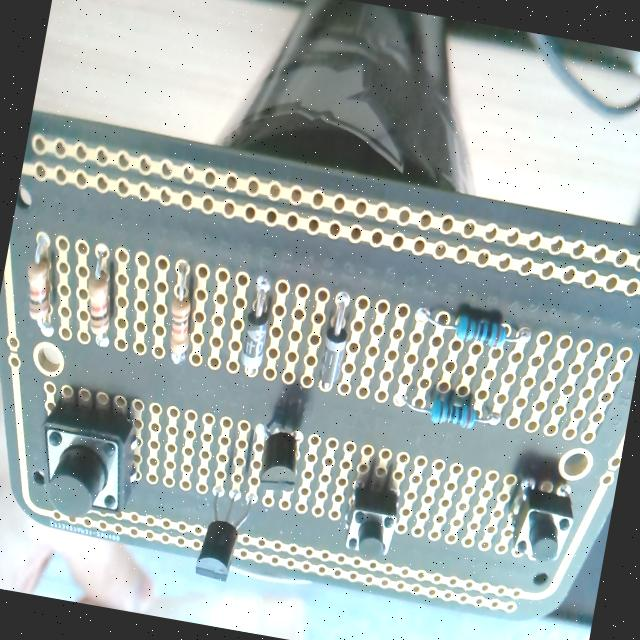diode: (236, 271, 278, 379), (314, 286, 356, 392)
resistor: (15, 231, 70, 341), (416, 304, 532, 355), (398, 379, 502, 434), (77, 245, 124, 350), (160, 258, 204, 366)
switch: (28, 386, 148, 526), (506, 478, 578, 568), (340, 465, 404, 561)
transistor: (192, 479, 258, 586), (244, 417, 307, 496)
